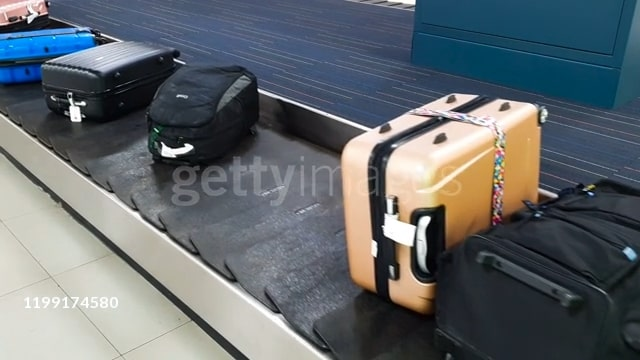baggage: (336, 88, 548, 317), (446, 179, 638, 360), (34, 38, 183, 126), (148, 63, 262, 168), (3, 25, 101, 89)
